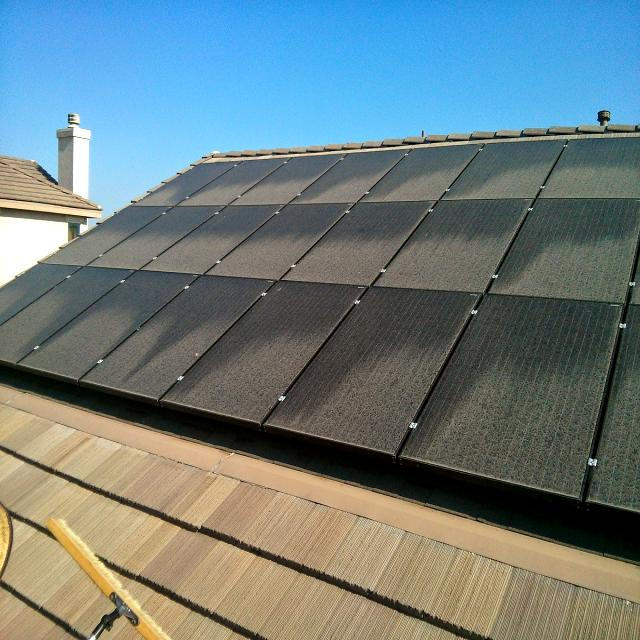dust: (501, 283, 635, 473), (368, 292, 486, 463), (265, 278, 347, 421), (158, 270, 246, 402), (32, 269, 126, 367), (222, 206, 328, 275), (498, 142, 624, 196), (126, 210, 214, 272), (534, 202, 622, 260), (400, 154, 490, 195), (413, 240, 486, 287), (184, 168, 286, 196), (342, 216, 389, 268), (334, 160, 368, 202)
